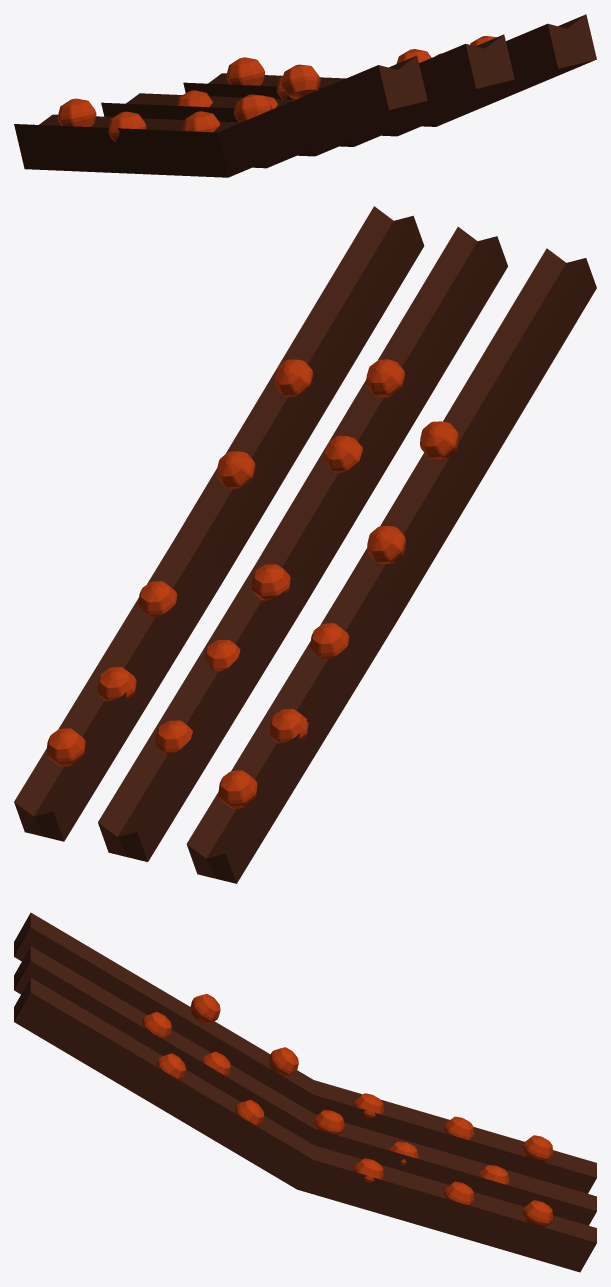
The model's file is M_PumpkinPatch_low.FBX.
The picture shows the model from 3 angles, top to bottom: view 1: azimuth 30°, elevation 25°; view 2: azimuth 150°, elevation 25°; view 3: azimuth 270°, elevation 25°; orthographic projection. The views are drawn at different scales.
Parts seen in each view (by area): view 1: DirtPatch02, DirtPatch01, DirtPatch00, Pumpkin14, Pumpkin02, Pumpkin08, Pumpkin09, Pumpkin01, Pumpkin00, Pumpkin03, Pumpkin11; view 2: DirtPatch01, DirtPatch02, DirtPatch00, Pumpkin14, Pumpkin09, Pumpkin02, Pumpkin08, Pumpkin11, Pumpkin13, Pumpkin12, Pumpkin05, Pumpkin10 (+5 smaller); view 3: DirtPatch00, DirtPatch02, DirtPatch01, Pumpkin14, Pumpkin09, Pumpkin08, Pumpkin02, Pumpkin05, Pumpkin11, Pumpkin13, Pumpkin12, Pumpkin07 (+3 smaller).
Boxes of the visible parts, left/top/right/bottom form: DirtPatch02: left=14, top=55, right=427, bottom=177; DirtPatch01: left=101, top=34, right=514, bottom=156; DirtPatch00: left=183, top=14, right=596, bottom=136; Pumpkin14: left=281, top=64, right=320, bottom=98; Pumpkin02: left=58, top=98, right=96, bottom=126; Pumpkin08: left=226, top=57, right=264, bottom=85; Pumpkin09: left=234, top=94, right=272, bottom=122; Pumpkin01: left=108, top=111, right=146, bottom=141; Pumpkin00: left=182, top=111, right=220, bottom=132; Pumpkin03: left=176, top=90, right=212, bottom=107; Pumpkin11: left=396, top=49, right=431, bottom=63; DirtPatch01: left=98, top=227, right=507, bottom=861; DirtPatch02: left=186, top=248, right=596, bottom=883; DirtPatch00: left=14, top=206, right=424, bottom=841; Pumpkin14: left=420, top=421, right=458, bottom=459; Pumpkin09: left=367, top=526, right=405, bottom=563; Pumpkin02: left=218, top=770, right=257, bottom=808; Pumpkin08: left=46, top=728, right=85, bottom=767; Pumpkin11: left=366, top=359, right=405, bottom=397; Pumpkin13: left=217, top=451, right=255, bottom=488; Pumpkin12: left=274, top=359, right=313, bottom=396; Pumpkin05: left=251, top=564, right=290, bottom=600; Pumpkin10: left=324, top=436, right=362, bottom=472; DirtPatch00: left=14, top=978, right=596, bottom=1272; DirtPatch02: left=14, top=912, right=596, bottom=1193; DirtPatch01: left=14, top=946, right=596, bottom=1225; Pumpkin14: left=190, top=994, right=220, bottom=1023; Pumpkin09: left=268, top=1047, right=298, bottom=1076; Pumpkin08: left=522, top=1200, right=552, bottom=1227; Pumpkin02: left=522, top=1135, right=552, bottom=1162; Pumpkin05: left=314, top=1110, right=344, bottom=1135; Pumpkin11: left=142, top=1012, right=171, bottom=1039; Pumpkin13: left=234, top=1100, right=264, bottom=1126; Pumpkin12: left=156, top=1053, right=185, bottom=1080; Pumpkin07: left=444, top=1181, right=474, bottom=1205.
Bounding box in the file's own units: 3.54 × 5.21 × 9.76.
